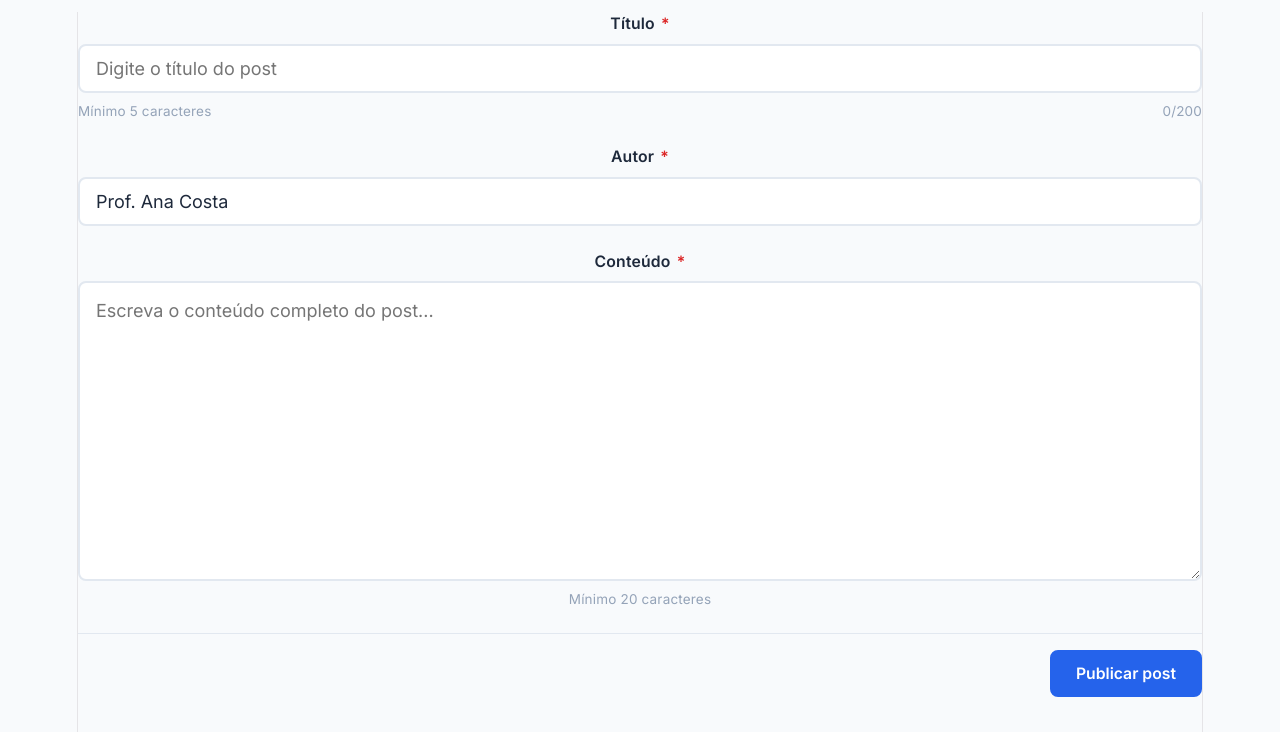
Test: PostForm › should show error when title is too short
The width and height of the screenshot is (1280, 732).
Type "Hi" into the field labelled "Título *" at (640, 68), box x1=78 y1=44 x2=1202 y2=93
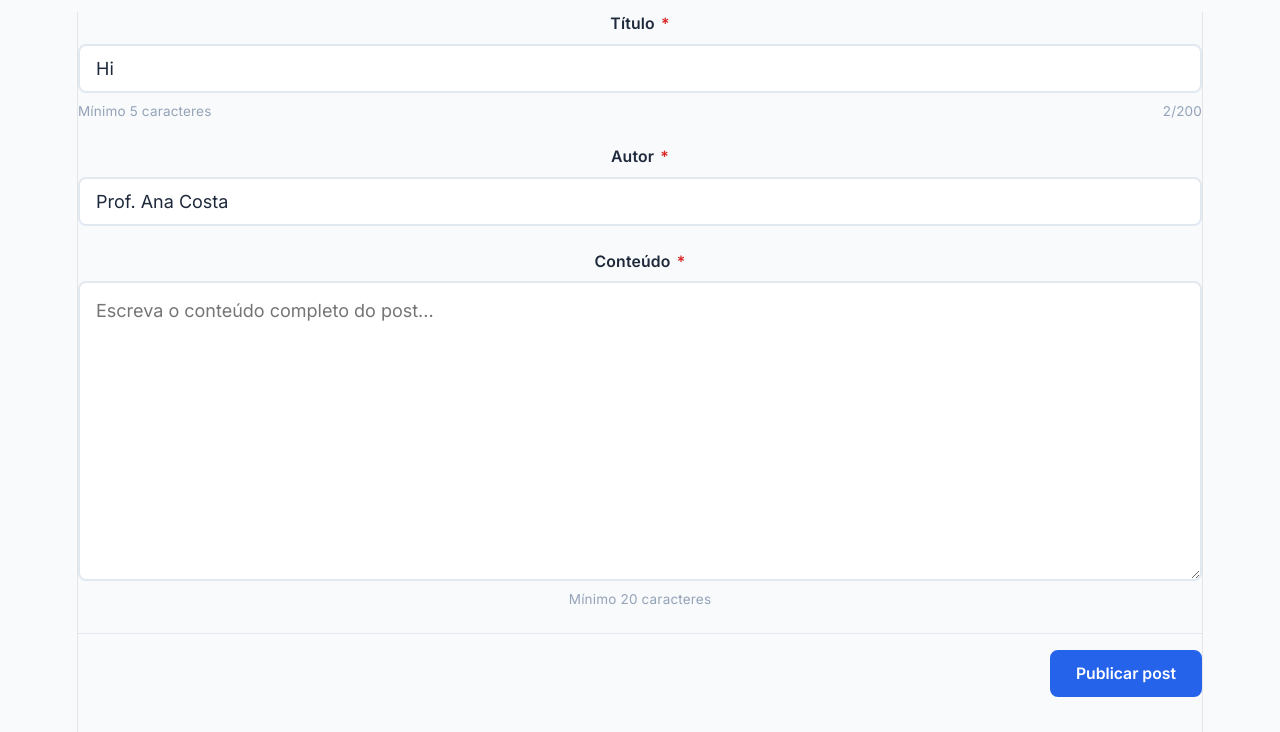
Leave the field labelled "Título *", box x1=78 y1=44 x2=1202 y2=93
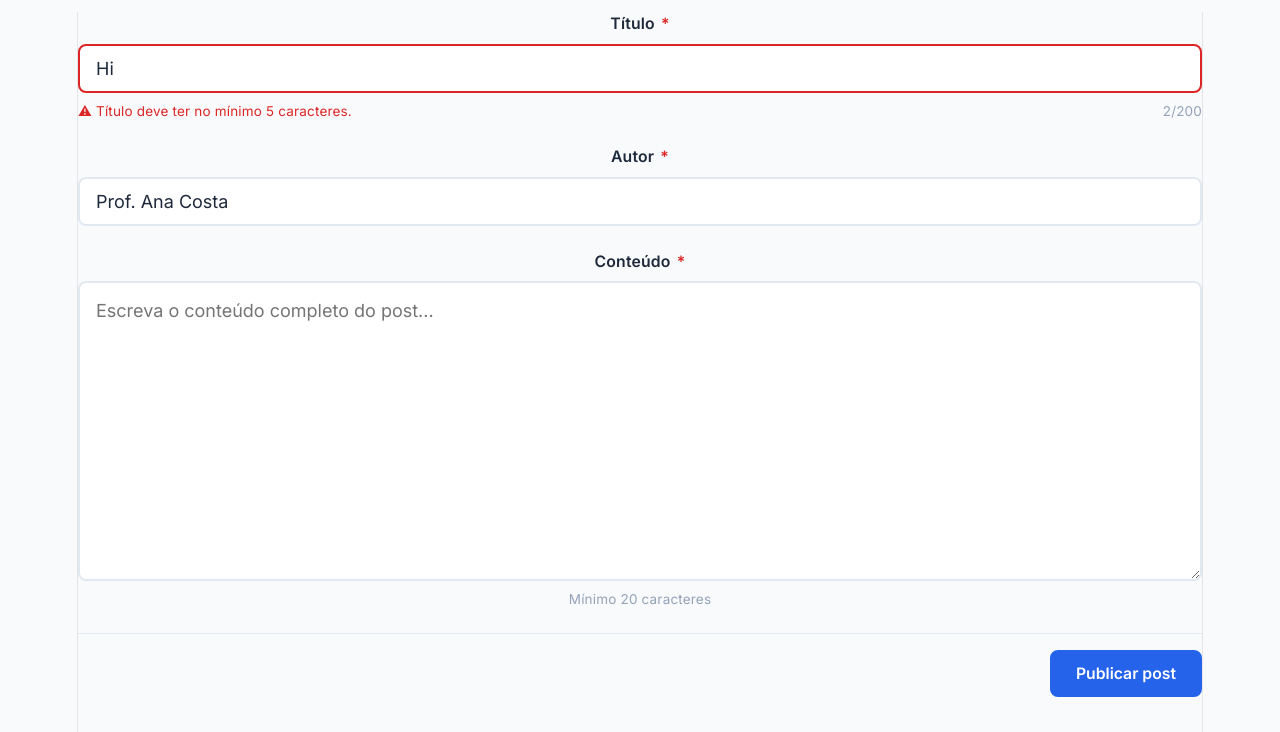
Now the text "⚠ Título deve ter no mínimo 5 caracteres." is shown, box x1=78 y1=101 x2=352 y2=121
